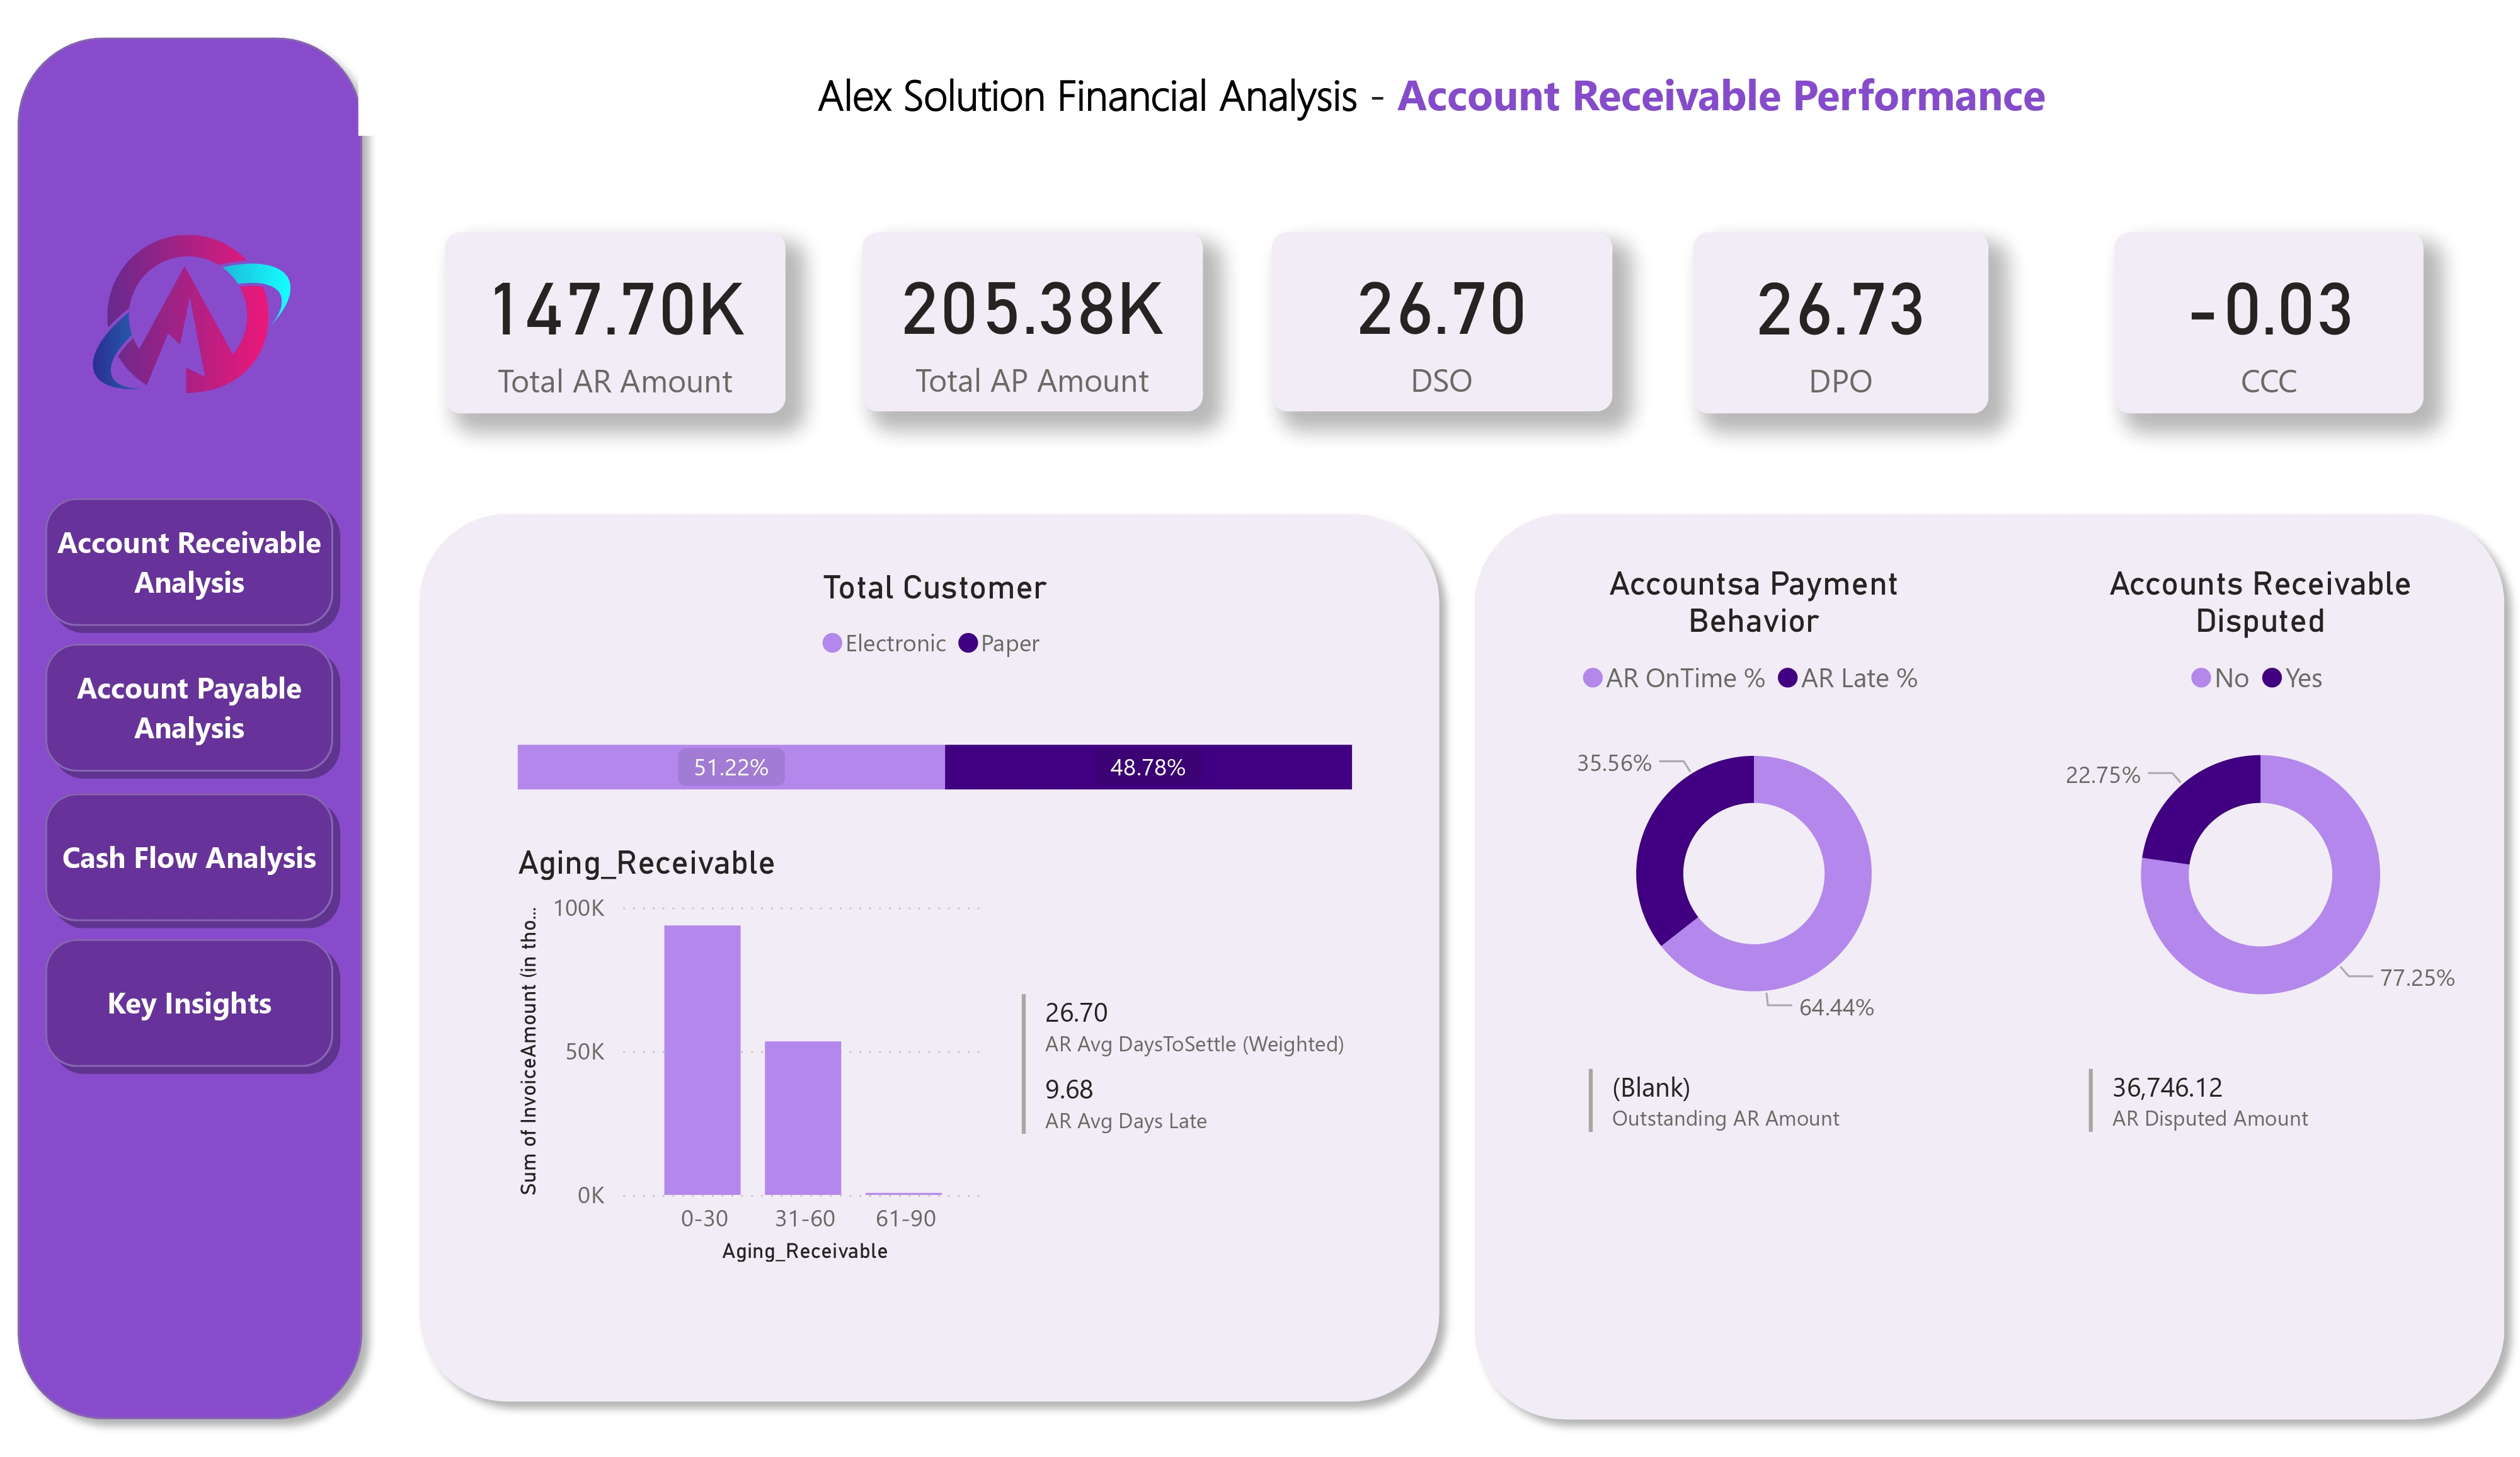

The dashboard page shown, as its layout file describes it:
{"tool":"powerbi","page":{"name":"Overview/Home","canvas":[1280,720],"ordinal":0},"visuals":[{"type":"shape","box":[0,0,193,720],"z":0},{"type":"textbox","box":[184,11,1096,42],"z":1000},{"type":"card","fields":{"Values":["Measure Table.Total AR Amount"]},"box":[226.4,108.2,172.7,91.8],"z":2000},{"type":"card","fields":{"Values":["Measure Table.DPO (actual, weighted)"]},"box":[859.1,108.2,150,91.8],"z":5000},{"type":"card","fields":{"Values":["Measure Table.CCC"]},"box":[1073.6,108.2,157.3,91.8],"z":6000},{"type":"shape","box":[739,242,541,478],"z":7000},{"type":"shape","box":[203,242,536,469],"z":8000},{"type":"hundredPercentStackedBarChart","title":"Total Customer","fields":{"Series":["Fact_AP.PaperlessBill"],"Y":["Fact_AP.PaperlessBill"]},"box":[257.5,277.5,433.8,150],"z":9000},{"type":"donutChart","title":"Accountsa Payment Behavior","fields":{"Y":["Measure Table.AR OnTime %","Measure Table.AR Late %"]},"box":[781.1,276.7,217.8,248.9],"z":10000},{"type":"donutChart","title":"Accounts Receivable Disputed","fields":{"Category":["Fact_AR.Disputed"],"Y":["Fact_AR.Disputed"]},"box":[1035.6,276.7,224.4,250],"z":11000},{"type":"multiRowCard","fields":{"Values":["Measure Table.AR Avg DaysToSettle (Weighted)","Measure Table.AR Avg Days Late"]},"box":[514,489,195,109],"z":12000},{"type":"multiRowCard","fields":{"Values":["Measure Table.Outstanding AR Amount"]},"box":[802,527,231,109],"z":13000},{"type":"multiRowCard","fields":{"Values":["Measure Table.AR Disputed Amount"]},"box":[1055,527,195,109],"z":14000},{"type":"image","box":[7.2,39.8,178.3,202.4],"z":37000},{"type":"clusteredColumnChart","title":" Aging_Receivable","fields":{"Category":["Fact_AR.Aging_Receivable"],"Y":["Fact_AR.InvoiceAmount (in thousands USD)"]},"box":[257,418,248,218],"z":38000},{"type":"textbox","box":[181.2,18.8,1096.2,41.2],"z":45000},{"type":"shape","box":[17.5,237.5,156.2,75],"z":46000},{"type":"shape","box":[17.5,312.5,156.2,75],"z":47000},{"type":"shape","box":[17.5,387.5,156.2,75],"z":48000},{"type":"shape","box":[17.5,462.5,156.2,75],"z":49000},{"type":"card","fields":{"Values":["Measure Table.Total AP Amount"]},"box":[438.8,108.8,172.5,91.2],"z":58001},{"type":"card","fields":{"Values":["Measure Table.DSO (actual, weighted)"]},"box":[646.2,108.8,172.5,91.2],"z":58002}]}

Visuals, with their boxes on the page's 1280x720 design canvas (x1, y1, x2, y2). These are canvas units, not pixel positions in the 2520x1457 screenshot, which may show the page scaled, cropped or inside an application window:
shape: 0/0/193/720
textbox: 184/11/1280/53
card - Measure Table.Total AR Amount: 226/108/399/200
card - Measure Table.DPO (actual, weighted): 859/108/1009/200
card - Measure Table.CCC: 1074/108/1231/200
shape: 739/242/1280/720
shape: 203/242/739/711
"Total Customer" hundredPercentStackedBarChart: 258/278/691/428
"Accountsa Payment Behavior" donutChart: 781/277/999/526
"Accounts Receivable Disputed" donutChart: 1036/277/1260/527
multiRowCard - Measure Table.AR Avg DaysToSettle (Weighted) x Measure Table.AR Avg Days Late: 514/489/709/598
multiRowCard - Measure Table.Outstanding AR Amount: 802/527/1033/636
multiRowCard - Measure Table.AR Disputed Amount: 1055/527/1250/636
image: 7/40/186/242
" Aging_Receivable" clusteredColumnChart: 257/418/505/636
textbox: 181/19/1277/60
shape: 18/238/174/312
shape: 18/312/174/388
shape: 18/388/174/462
shape: 18/462/174/538
card - Measure Table.Total AP Amount: 439/109/611/200
card - Measure Table.DSO (actual, weighted): 646/109/819/200
